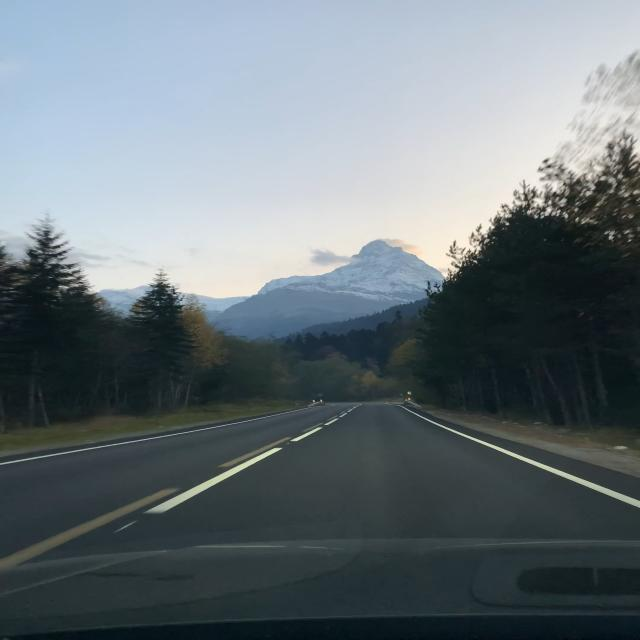asphalt: (0, 402, 640, 564)
